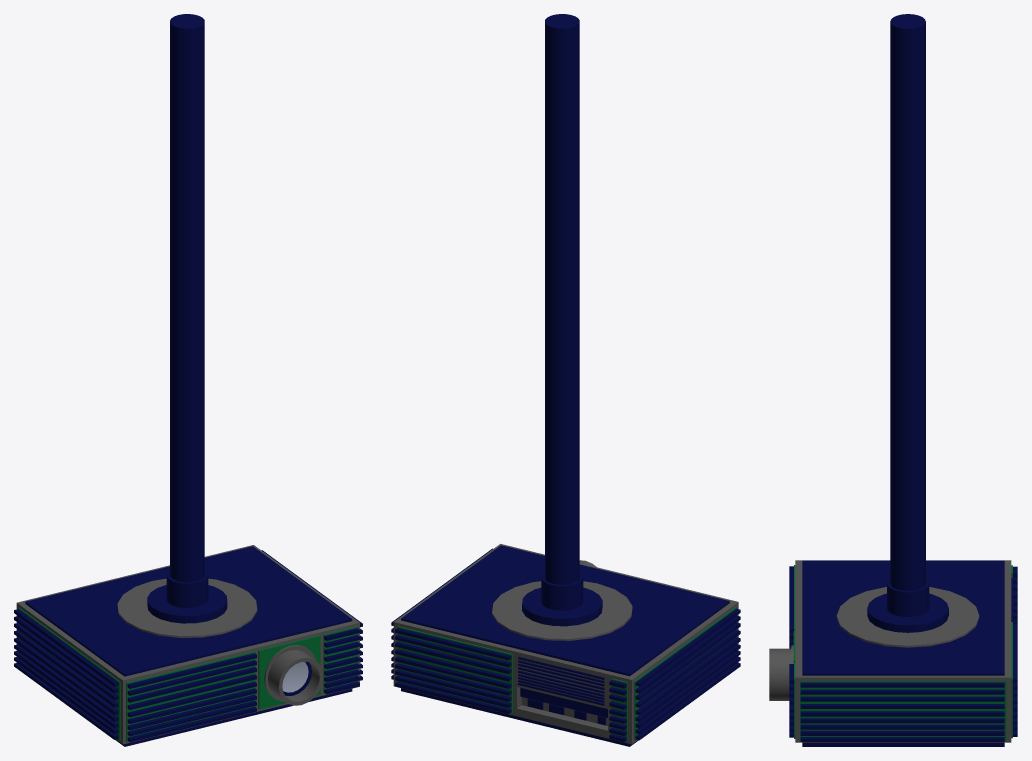
The model's file is projectorMatID.fbx.
3 renders of one model, left to right at view 1: azimuth 30°, elevation 25°; view 2: azimuth 150°, elevation 25°; view 3: azimuth 270°, elevation 25°, orthographic.
Parts seen in each view (by area): view 1: celingMountTube, bottomBase, ventSideL8.002, mainBase, celingMountBaseBase, ventLback, celingMountBase, lensFrame, lensBase1, celingMountBaseSupport, lens.001; view 2: celingMountTube, bottomBase, ventSideL8.002, mainBase, celingMountBaseBase, ventLback, celingMountBase, celingMountBaseSupport; view 3: celingMountTube, bottomBase, ventSideL8.002, ventLback, mainBase, celingMountBaseBase, celingMountBase, celingMountBaseSupport, lensFrame.
Part boxes in pixels (x1,y1,x2,y2): celingMountTube: (170,14,204,582); bottomBase: (25,546,352,746); ventSideL8.002: (14,550,362,742); mainBase: (16,545,359,744); celingMountBaseBase: (117,578,257,637); ventLback: (18,607,357,741); celingMountBase: (147,585,227,623); lensFrame: (268,650,323,705); lensBase1: (258,635,320,709); celingMountBaseSupport: (166,570,208,607); lens.001: (282,662,308,692); celingMountTube: (545,14,579,584); bottomBase: (401,545,729,746); ventSideL8.002: (391,548,740,742); mainBase: (393,544,738,744); celingMountBaseBase: (492,581,632,640); ventLback: (397,607,737,741); celingMountBase: (522,587,602,626); celingMountBaseSupport: (541,573,583,610); celingMountTube: (890,14,925,590); bottomBase: (802,560,1004,746); ventSideL8.002: (789,566,1017,741); ventLback: (794,565,1012,740); mainBase: (795,560,1011,742); celingMountBaseBase: (836,587,979,647); celingMountBase: (867,593,948,632); celingMountBaseSupport: (887,579,929,616); lensFrame: (769,648,791,700).
Size of the model in its own units: 5.31 by 13.51 by 4.54.
